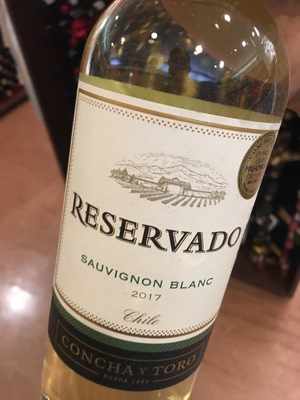reservado sauvignon blanc: (53, 5, 279, 400)
